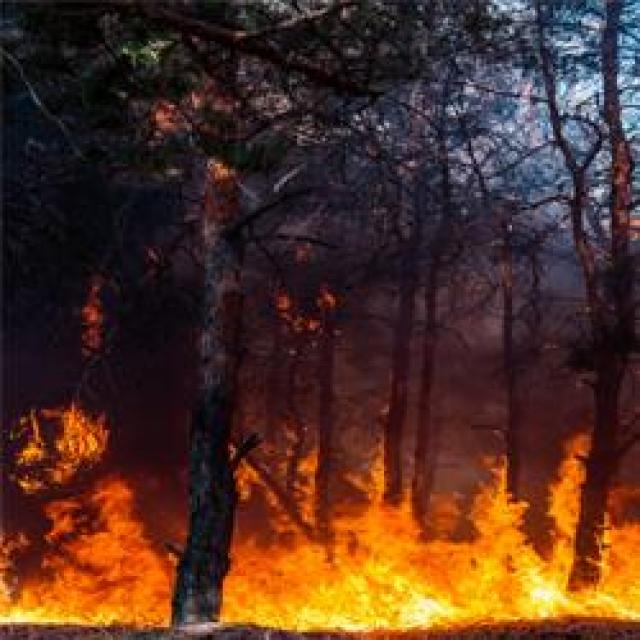fire: (248, 515, 640, 628), (14, 498, 170, 633), (466, 454, 536, 626), (20, 408, 116, 491)
